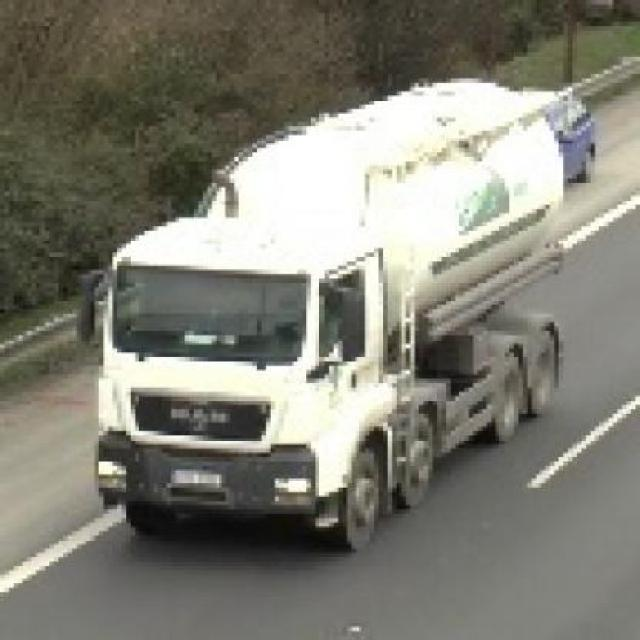truck: (78, 75, 587, 562)
